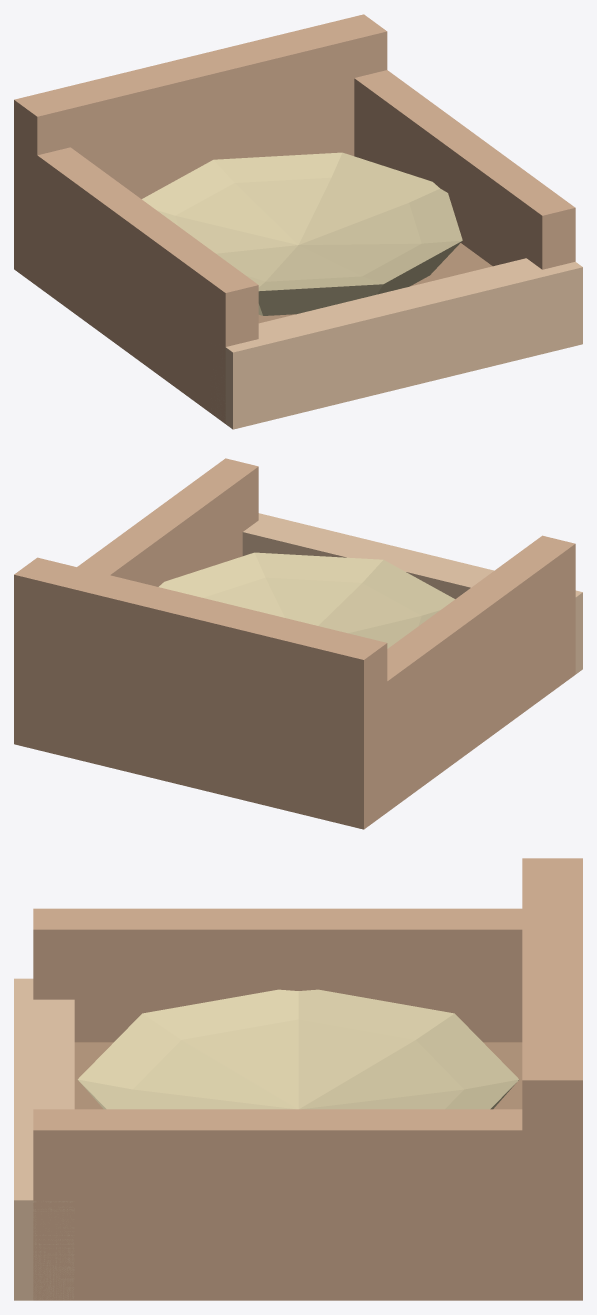
File: crafted-nest-0.glb
The picture shows the model from 3 angles, top to bottom: view 1: azimuth 30°, elevation 25°; view 2: azimuth 150°, elevation 25°; view 3: azimuth 270°, elevation 25°; orthographic projection. The views are drawn at different scales.
Visible parts, largest first — view 1: nest-back, nest-side, nest-front, straw, nest-side-1, nest-floor; view 2: nest-back, nest-side, straw, nest-side-1, nest-front; view 3: nest-side-1, nest-side, straw, nest-back, nest-front, nest-floor.
Boxes of the visible parts, x1=… form: nest-back: x1=14, y1=14, x2=387, y2=285; nest-side: x1=21, y1=144, x2=258, y2=423; nest-front: x1=211, y1=258, x2=582, y2=429; straw: x1=142, y1=152, x2=462, y2=315; nest-side-1: x1=354, y1=70, x2=575, y2=269; nest-floor: x1=258, y1=243, x2=492, y2=323; nest-back: x1=14, y1=557, x2=387, y2=829; nest-side: x1=371, y1=535, x2=575, y2=823; straw: x1=159, y1=552, x2=454, y2=648; nest-side-1: x1=77, y1=458, x2=258, y2=586; nest-front: x1=242, y1=513, x2=582, y2=674; nest-side-1: x1=33, y1=1109, x2=563, y2=1300; nest-side: x1=33, y1=908, x2=522, y2=1042; straw: x1=77, y1=989, x2=519, y2=1109; nest-back: x1=522, y1=858, x2=582, y2=1300; nest-front: x1=14, y1=978, x2=74, y2=1300; nest-floor: x1=74, y1=1042, x2=522, y2=1109.
Size of the model in its own units: 0.475 by 0.22 by 0.515.
